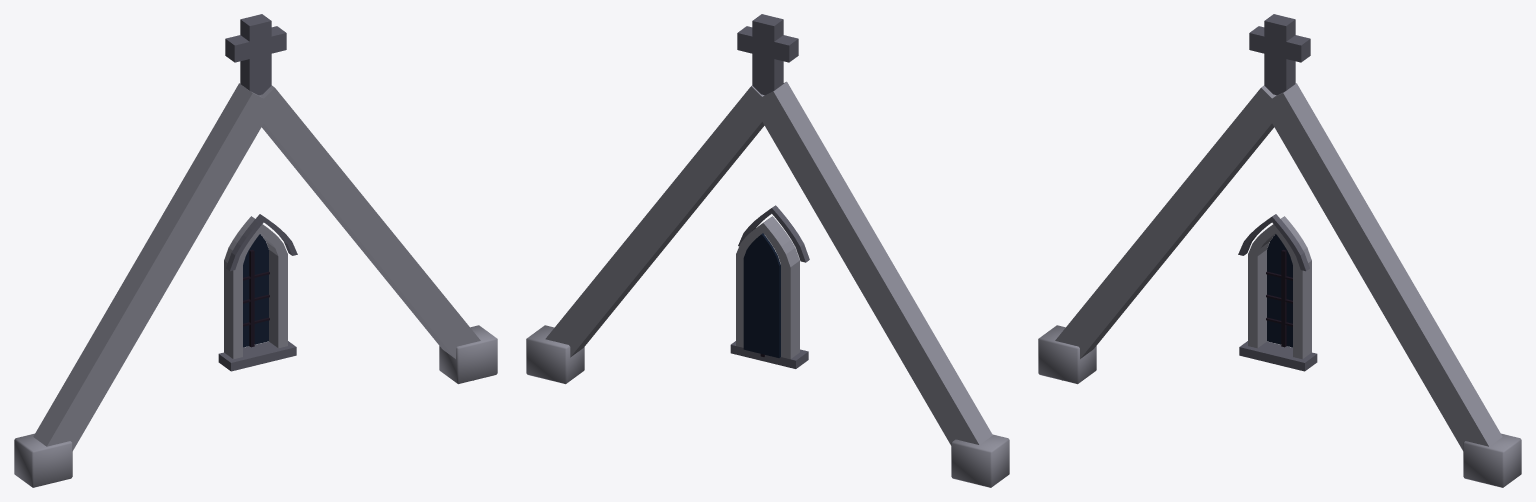
The model's file is kit_church_gable_w3.glb.
The picture shows the model from 3 angles, left to right: view 1: azimuth 30°, elevation 25°; view 2: azimuth 150°, elevation 25°; view 3: azimuth 330°, elevation 25°; orthographic projection.
Parts seen in each view (by area): view 1: kit_church_gable_w3; view 2: kit_church_gable_w3; view 3: kit_church_gable_w3.
Part boxes in pixels (x1,y1,x2,y2): kit_church_gable_w3: (14,14,497,487); kit_church_gable_w3: (526,14,1009,487); kit_church_gable_w3: (1038,14,1521,487).
Bounding box in the file's own units: 3.42 × 2.85 × 0.24.
